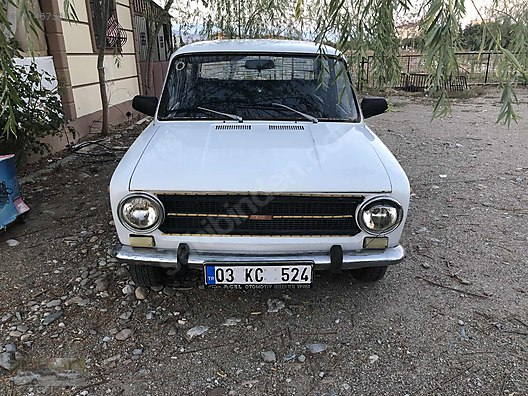murat: (103, 38, 410, 299)
